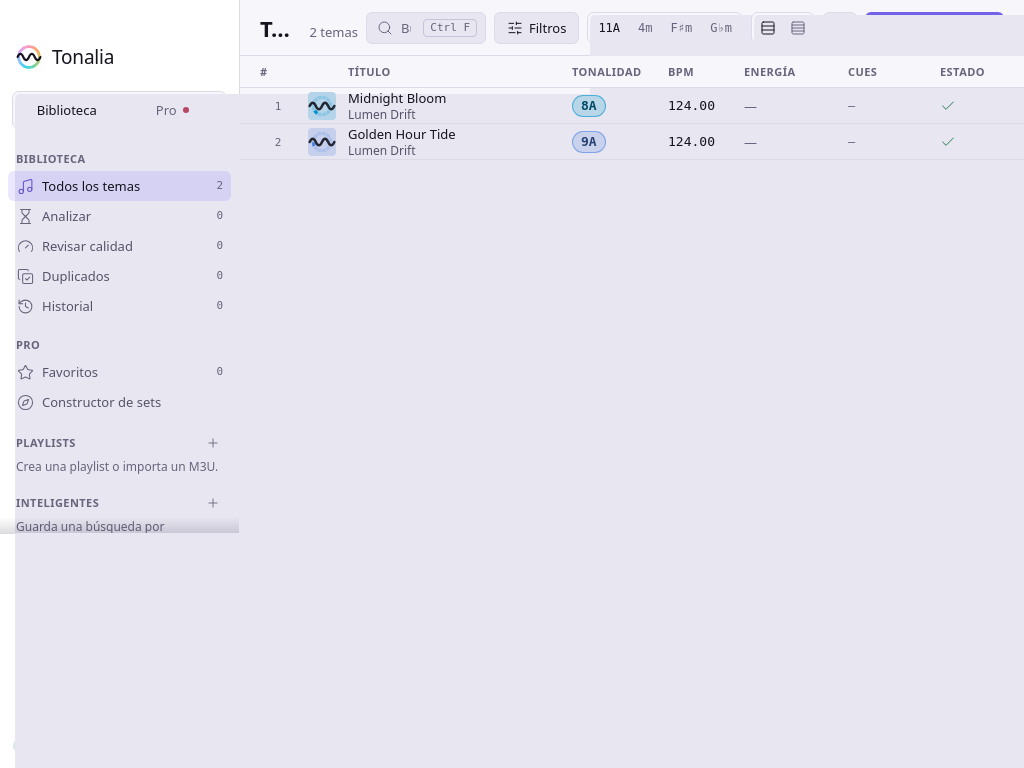
empty states › a search with no results says so and clears the search
The image size is (1024, 768).
Expected: the text "Midnight Bloom" is shown, [348, 88, 446, 106]
Type "zzz" into the search field.
click(408, 28); type("zzz")  # box [401, 18, 415, 38]
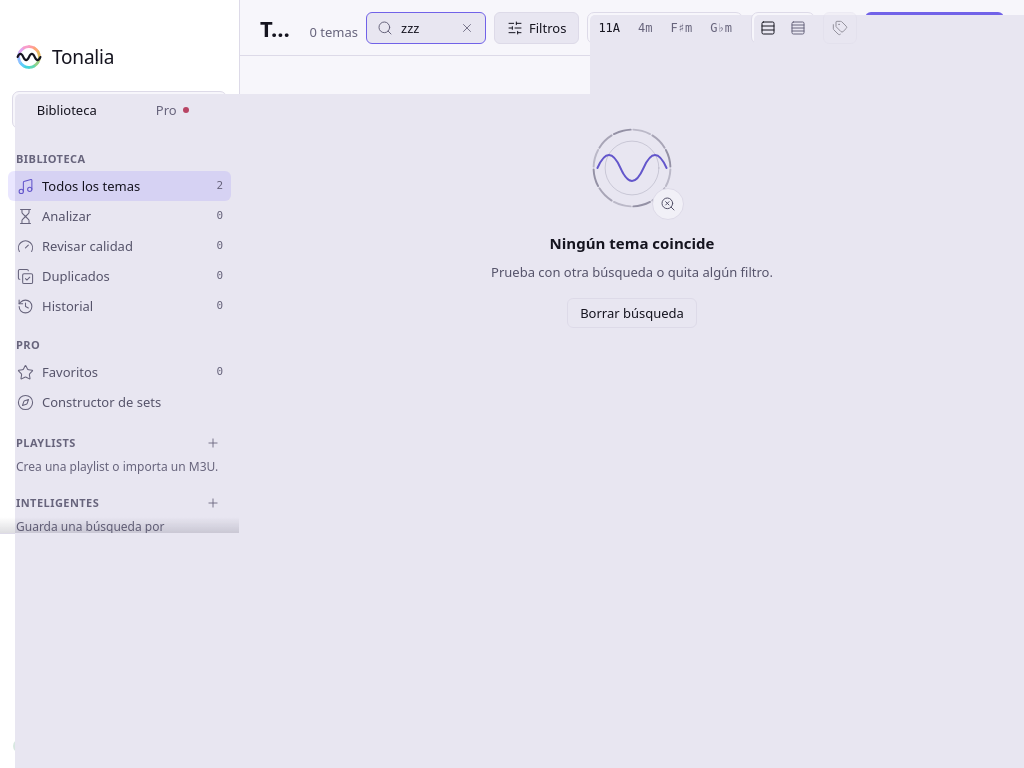
Expected: the heading "Ningún tema coincide" is shown, [550, 232, 714, 254]
Expected: the text "Prueba con otra búsqueda o quita algún filtro." is shown, [491, 262, 773, 282]
// (The search box has its own clear button too.)
Click the button "Borrar búsqueda".
click(632, 313)  # box [567, 298, 697, 328]
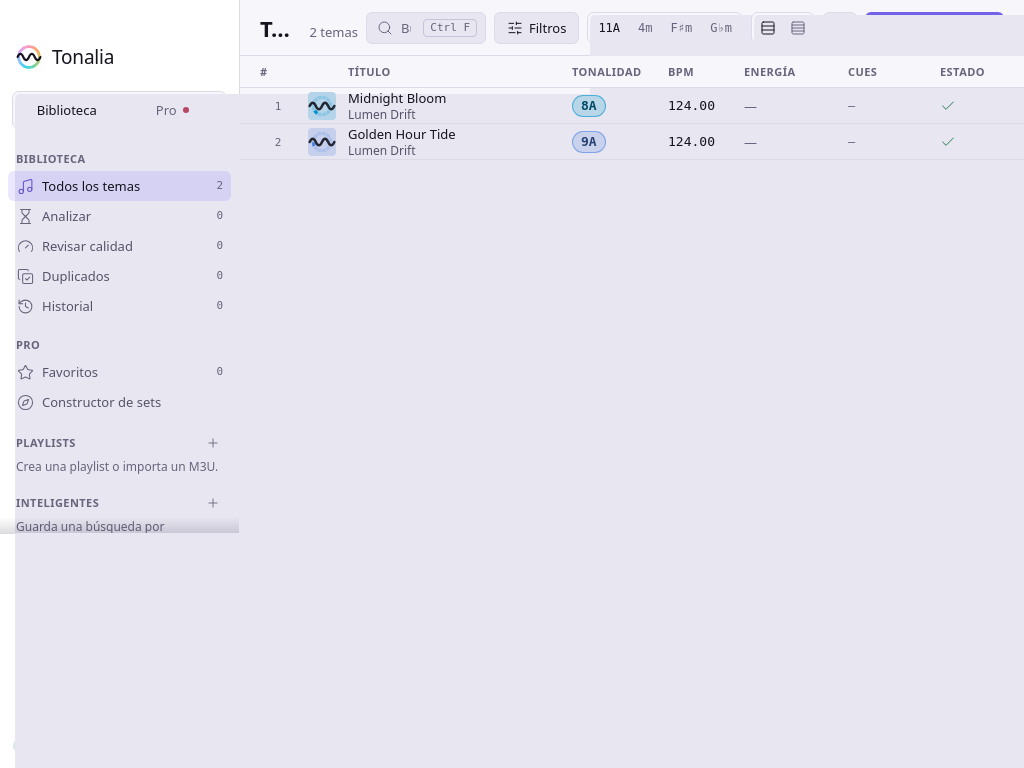
Expected: the text "Midnight Bloom" is shown, [348, 88, 446, 106]
